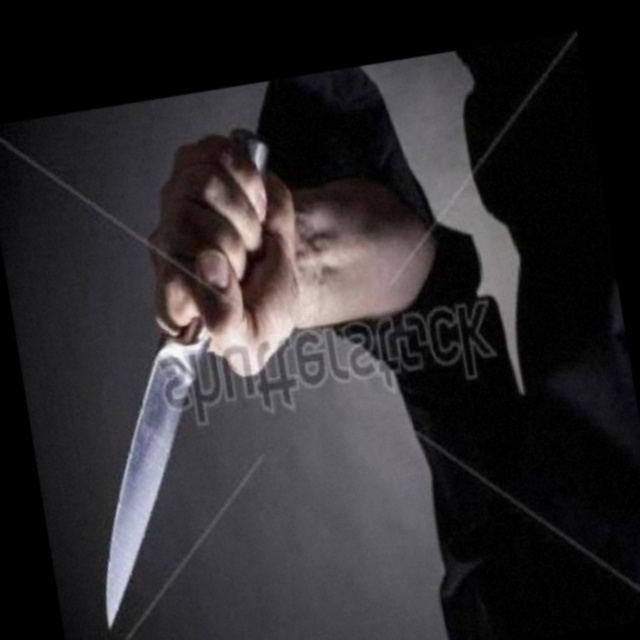Sharp-Object: (33, 126, 339, 625)
